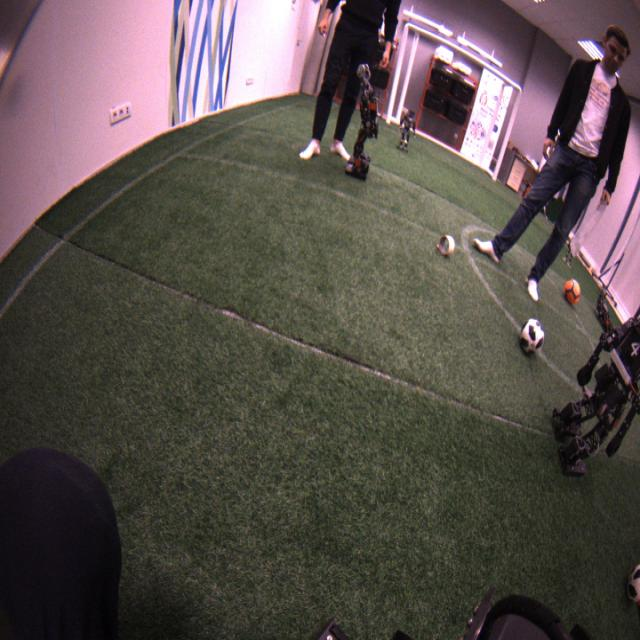ball: (520, 319, 545, 357), (627, 558, 640, 611), (564, 279, 580, 305)
goalpost: (490, 86, 524, 181), (386, 23, 412, 125)
